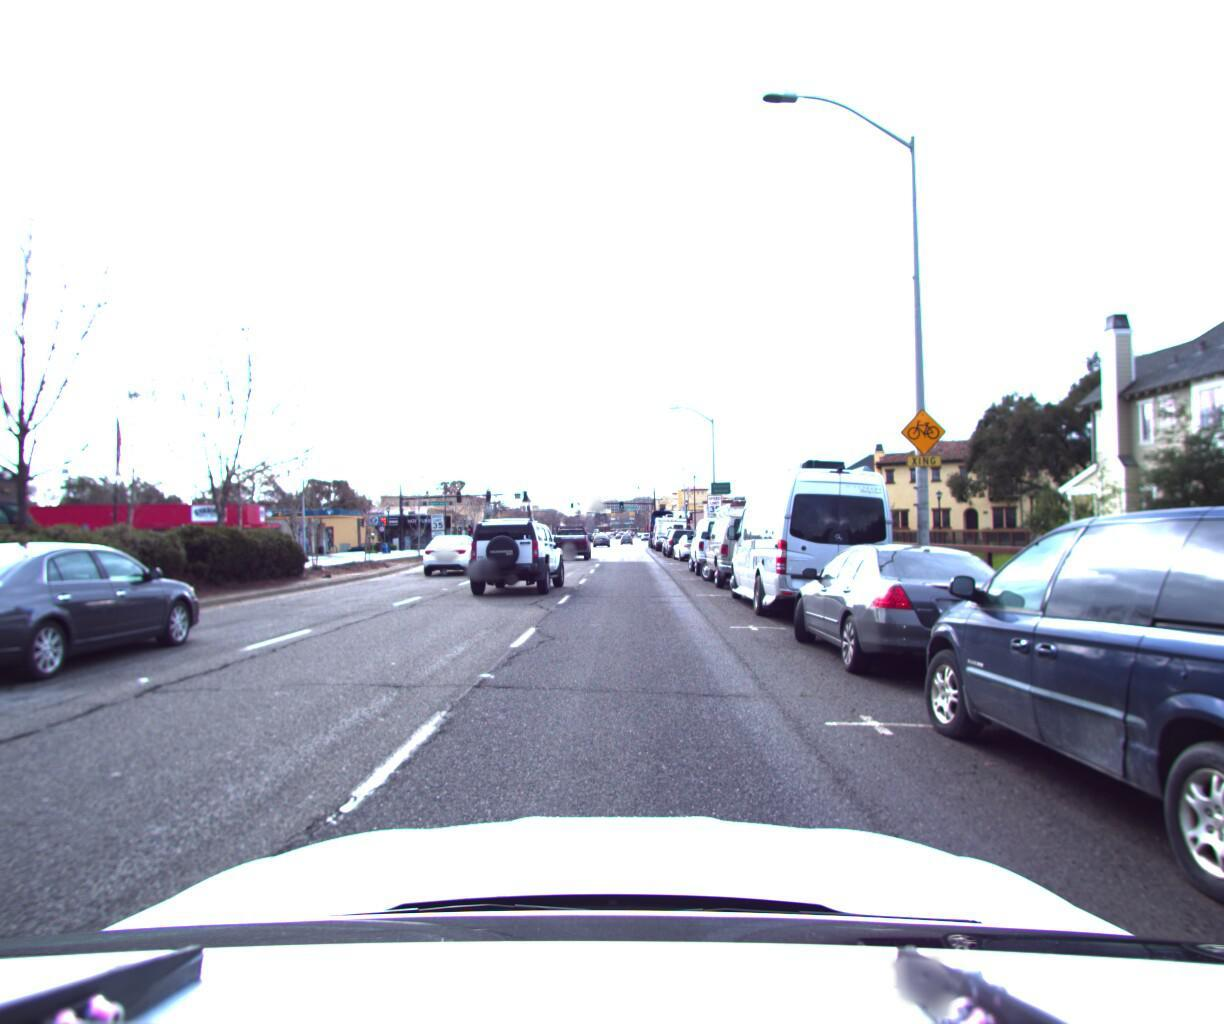car: (904, 476, 1224, 1024), (786, 536, 1068, 697), (0, 528, 218, 701), (728, 451, 912, 631), (460, 515, 568, 598), (706, 502, 803, 592), (691, 516, 763, 578), (419, 532, 491, 577), (553, 522, 595, 561), (675, 532, 717, 562), (590, 533, 609, 549)
other_vehicle: (656, 513, 691, 553)
truck: (651, 510, 680, 547)
